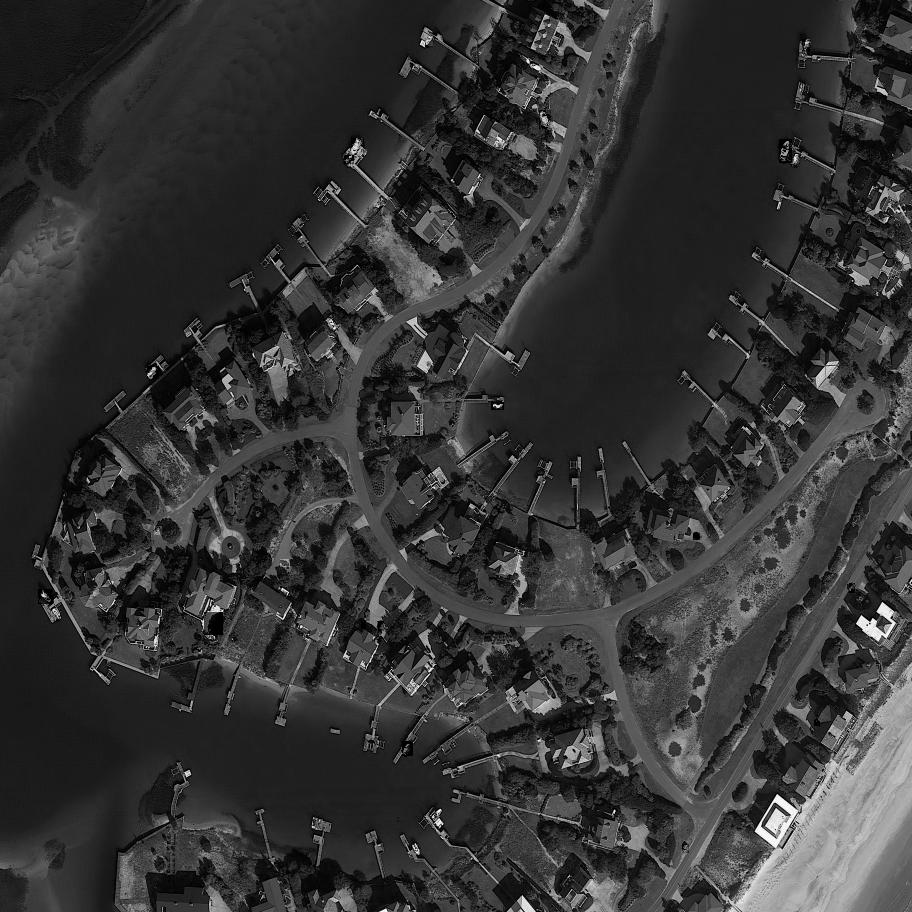ship: (205, 612, 225, 637), (778, 140, 792, 164), (351, 139, 365, 158), (38, 590, 54, 605), (540, 110, 552, 129), (402, 742, 414, 757), (148, 365, 160, 380), (328, 317, 339, 330), (51, 608, 61, 621), (344, 156, 355, 167), (492, 402, 505, 410), (803, 40, 811, 52), (426, 37, 434, 48), (793, 155, 799, 167)
small-vehicle: (280, 560, 291, 569), (154, 526, 163, 536), (376, 632, 385, 641), (682, 844, 689, 854), (693, 533, 702, 540), (378, 622, 385, 631), (850, 583, 856, 593), (365, 612, 371, 622), (814, 719, 821, 727), (362, 622, 366, 629)
